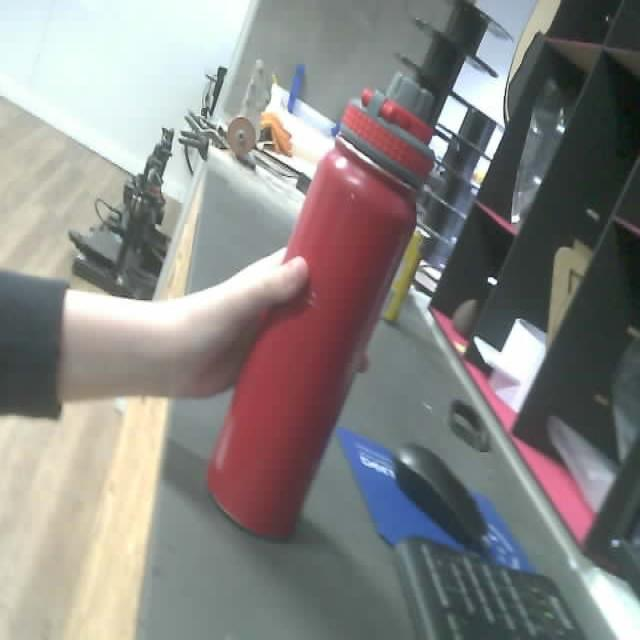water bottle: (204, 92, 436, 539)
